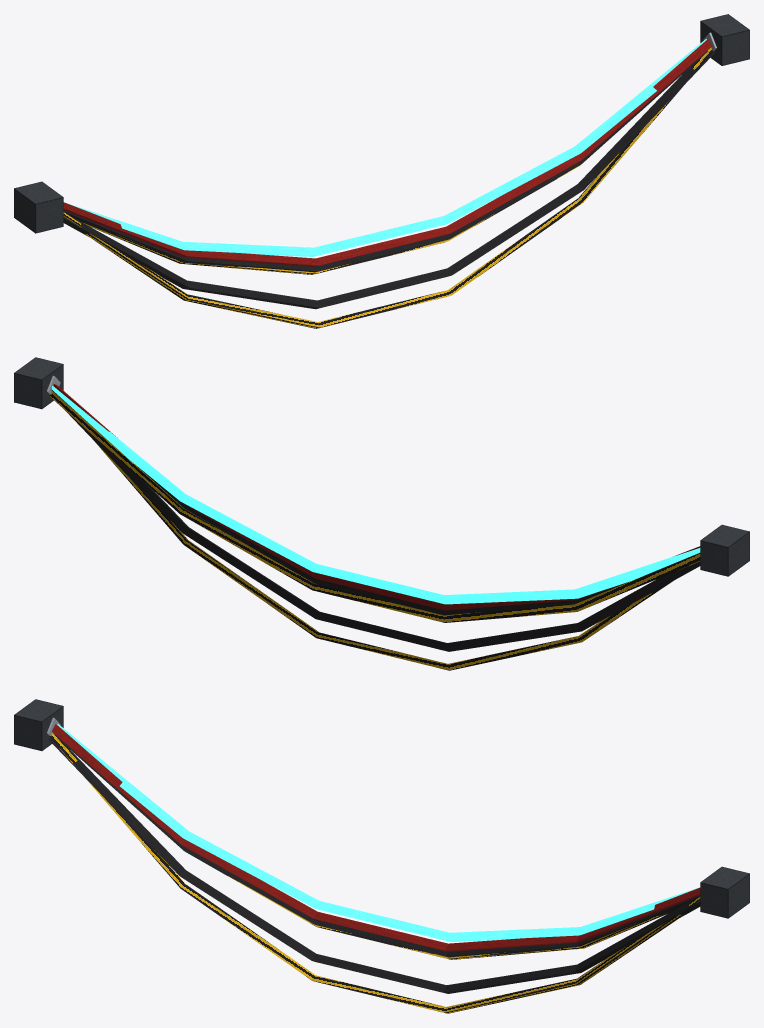
The model's file is cable_bundle.glb.
The picture shows the model from 3 angles, top to bottom: view 1: azimuth 30°, elevation 25°; view 2: azimuth 150°, elevation 25°; view 3: azimuth 330°, elevation 25°; orthographic projection.
Parts seen in each view (by area): view 1: cable_bundle_199400; view 2: cable_bundle_199400; view 3: cable_bundle_199400.
Boxes of the visible parts, x1,y1,x2,y2 form: cable_bundle_199400: [14, 14, 749, 328]; cable_bundle_199400: [14, 357, 749, 670]; cable_bundle_199400: [14, 699, 749, 1013].
Size of the model in its own units: 3.05 by 0.8279 by 0.16.
Materials: 6 (6 with a texture image).
